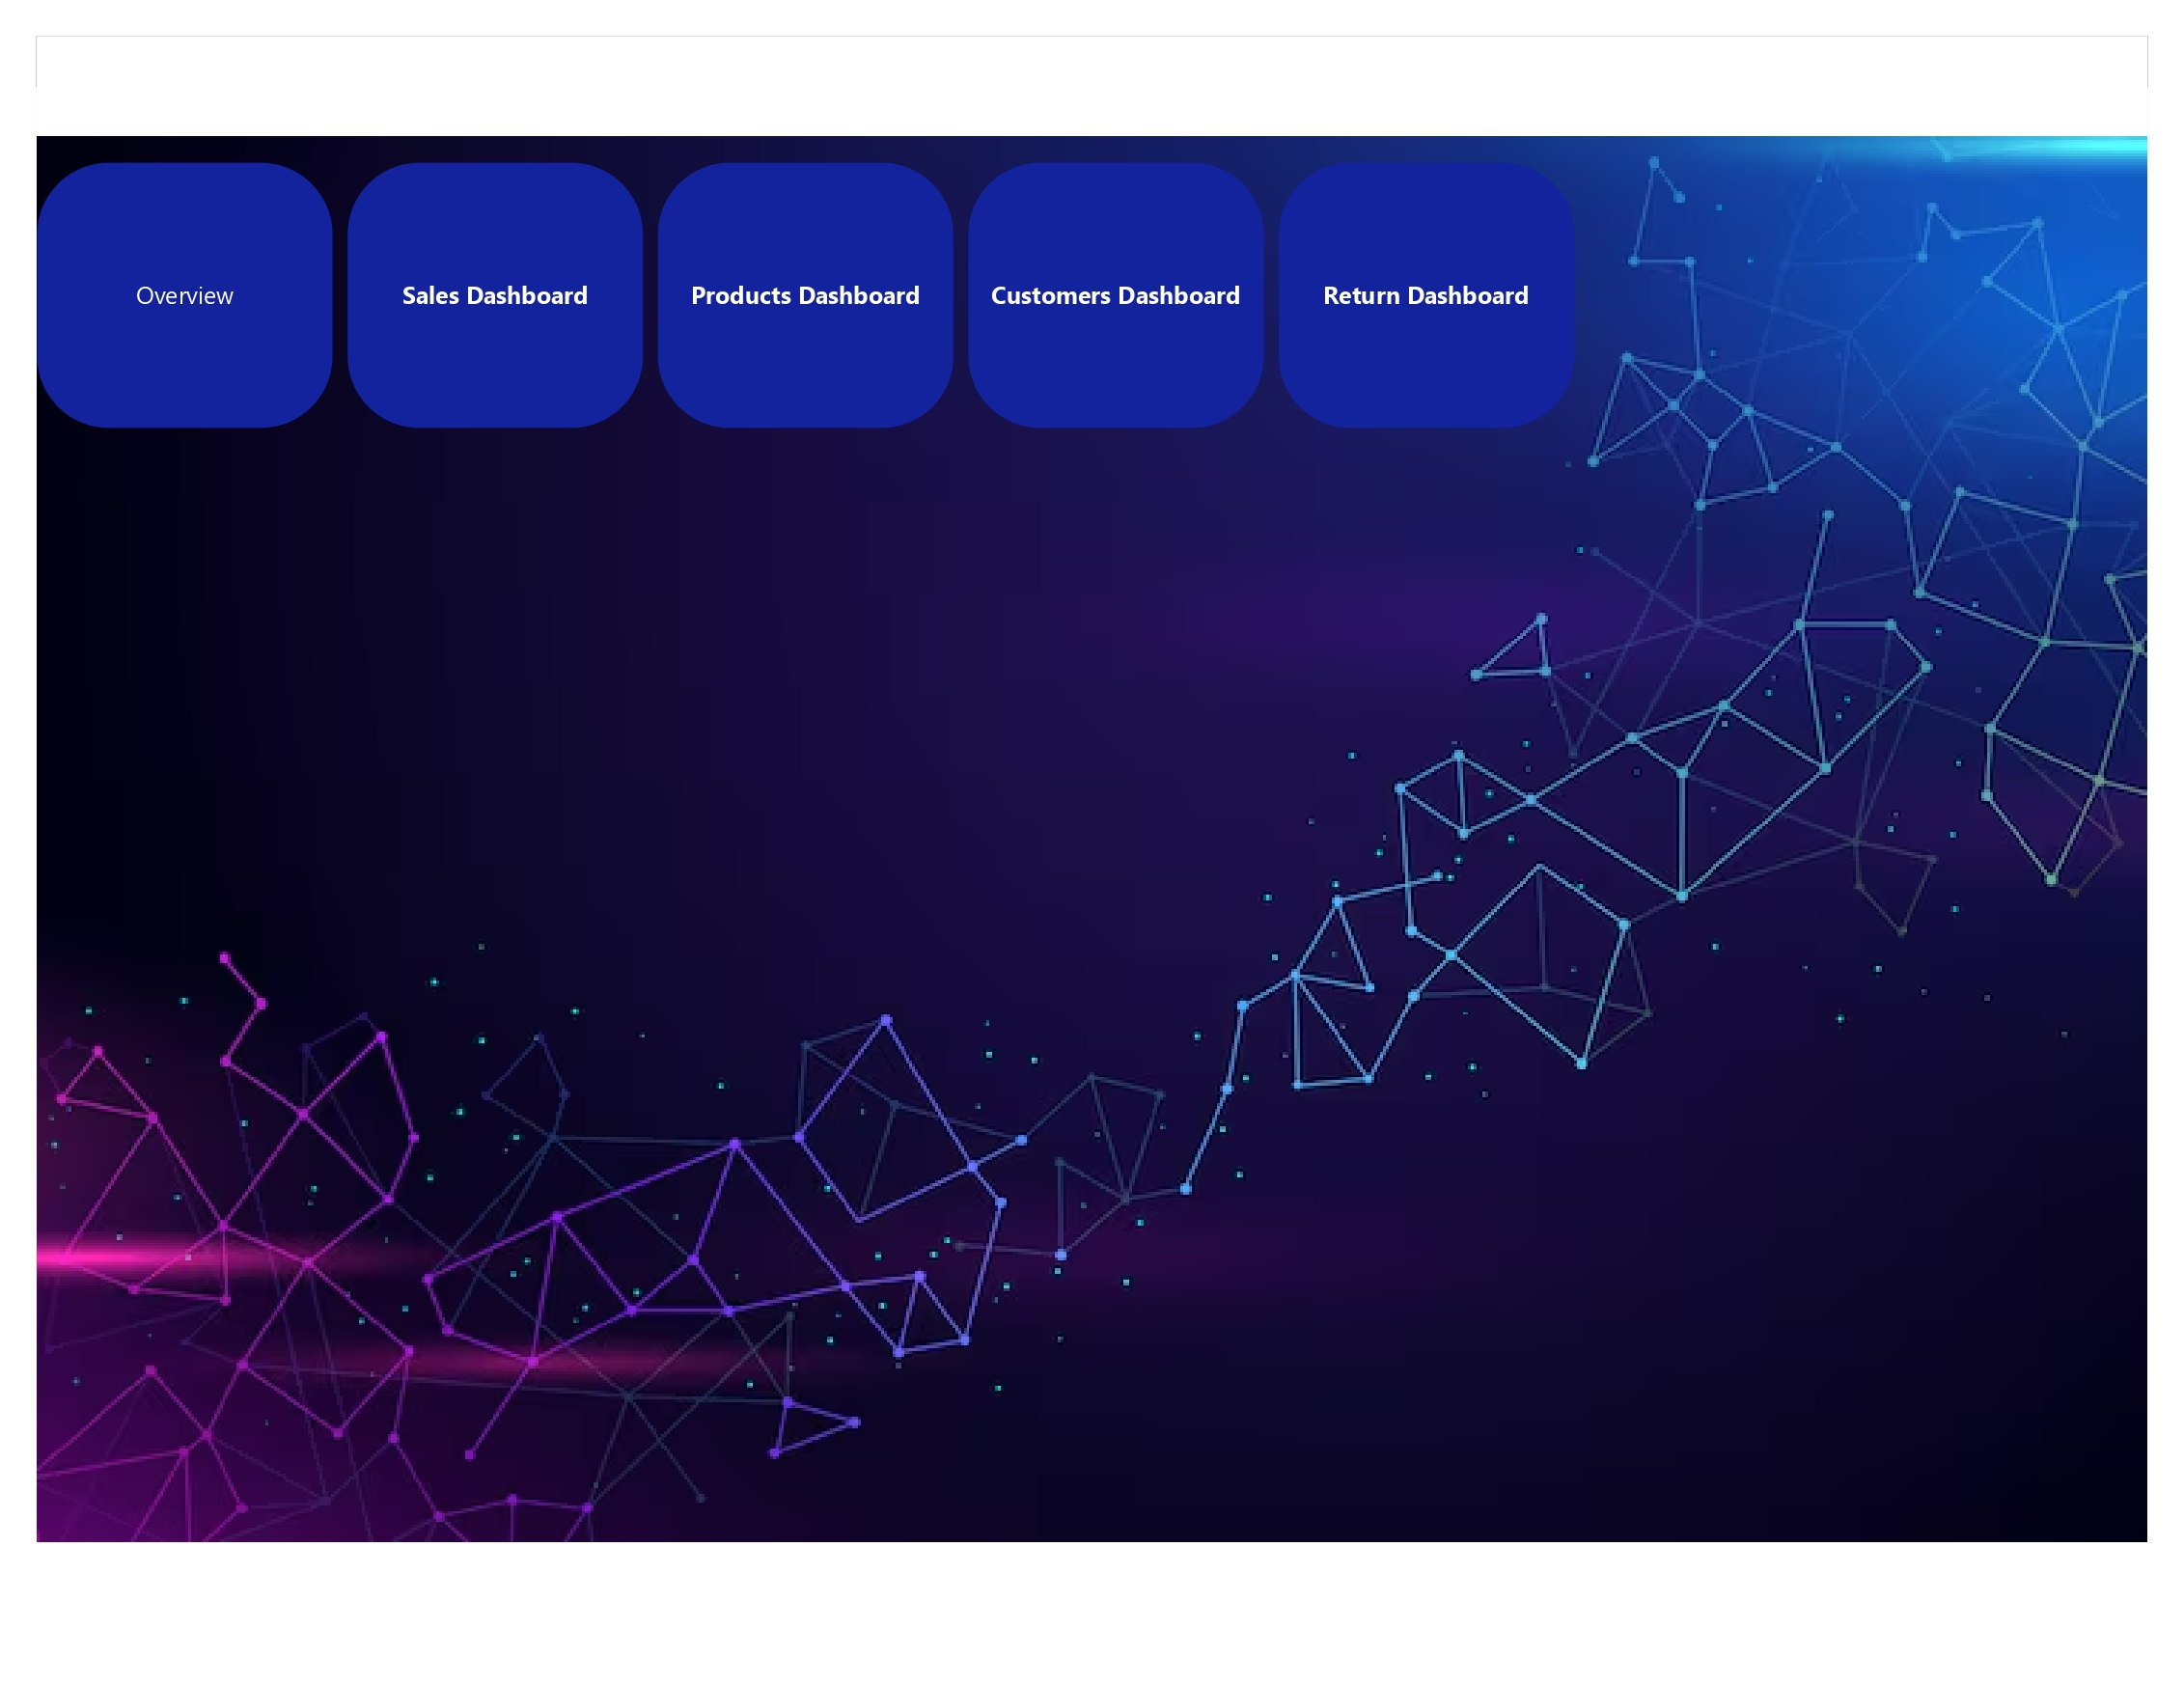

The page's visual inventory and layout, read from the dashboard file:
{"tool":"powerbi","page":{"name":"Overview","canvas":[1400,1070],"ordinal":0},"visuals":[{"type":"pageNavigator","box":[0,84,1024,176],"z":0}]}

Visuals, with their boxes on the page's 1400x1070 design canvas (x1, y1, x2, y2). These are canvas units, not pixel positions in the 2184x1685 screenshot, which may show the page scaled, cropped or inside an application window:
pageNavigator: <box>0,84,1024,260</box>
